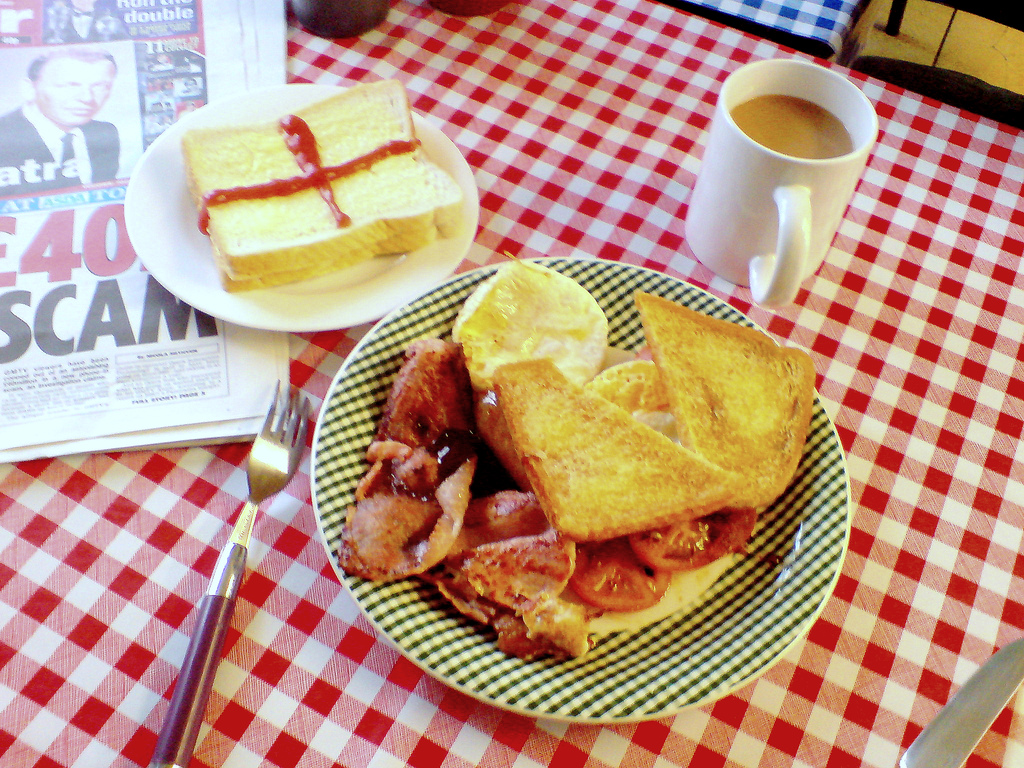fried egg: (449, 277, 617, 388)
slice of bread: (156, 93, 487, 306), (491, 359, 756, 551), (638, 295, 833, 518)
